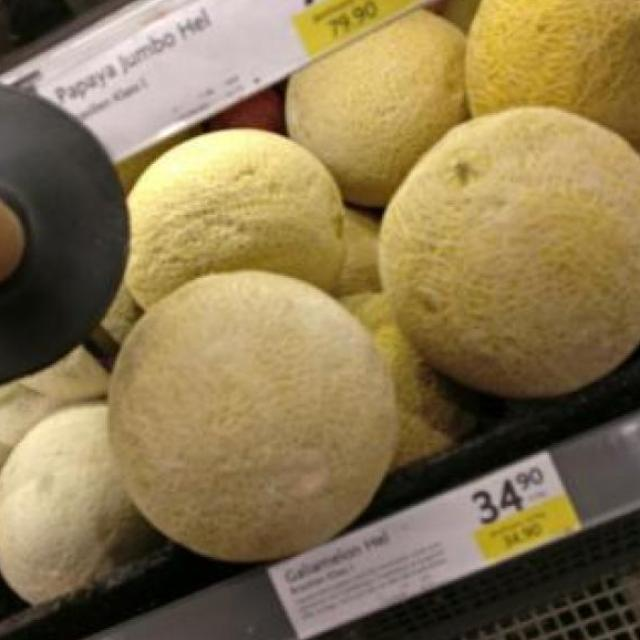Cantaloupe: (93, 264, 406, 585), (372, 111, 640, 418), (130, 125, 352, 327)
